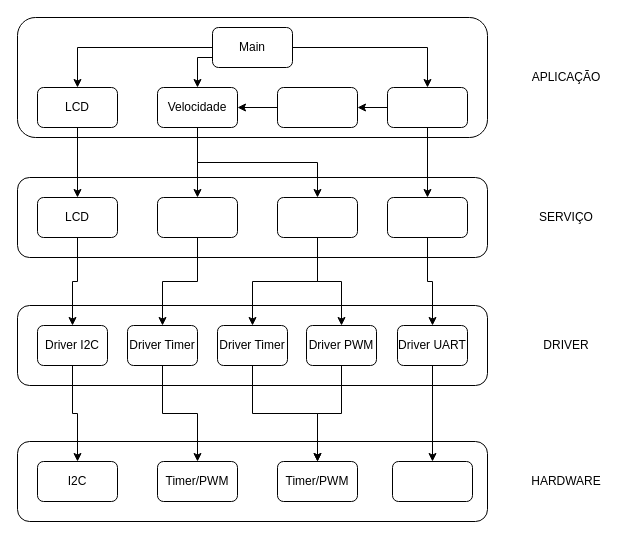
Some shapes in this 619 by 539 pixel diagram are drawn without their labels. The shapes that lost their labels are listed below. From the top down, each one's box as (x1, y1, x2, y2) in pixels, then its label:
(276, 86, 358, 128): Controle de Direção
(386, 86, 468, 128): Conexão Bluetooth
(156, 196, 238, 238): Encoders
(276, 196, 358, 238): Módulo Driver
(386, 196, 468, 238): Módulo Bluetooth
(392, 460, 472, 502): UART
